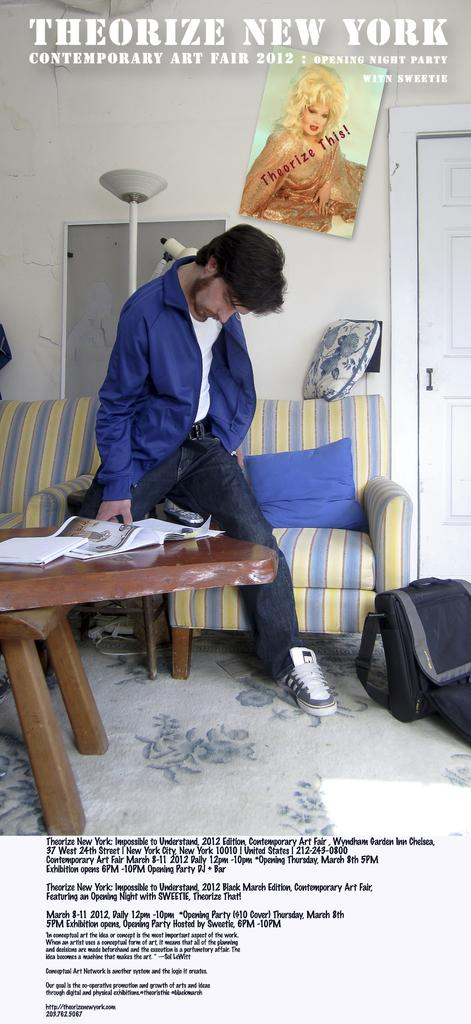Luggage-and-bags: (369, 578, 465, 729)
